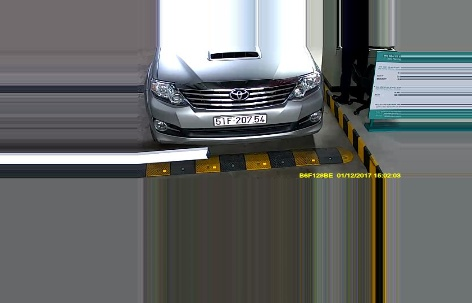plate: (214, 110, 267, 127)
